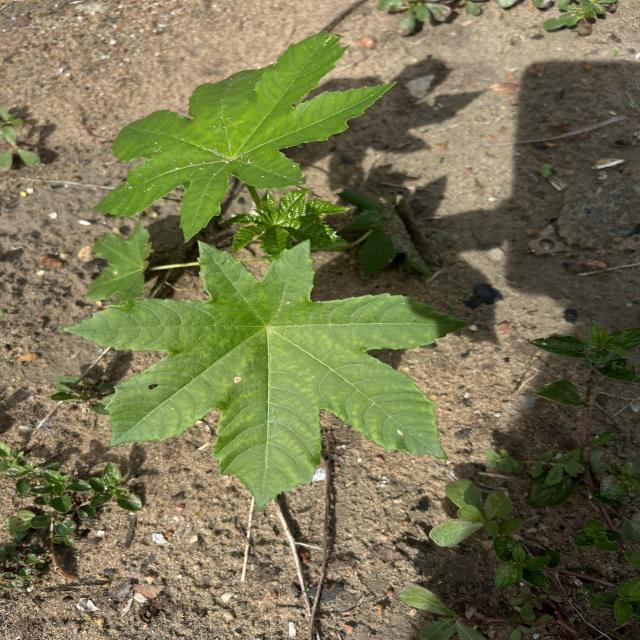Ricinus communis linn: (59, 235, 476, 513), (85, 28, 401, 246)
